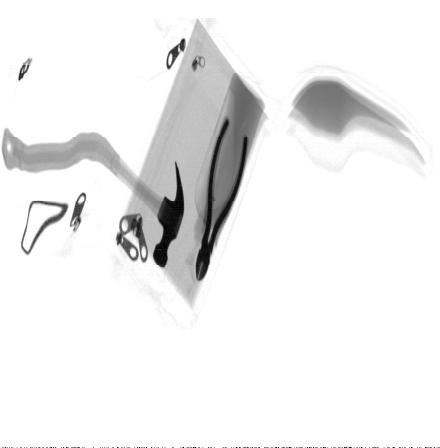Hammer: (1, 126, 186, 268)
Pliers: (195, 114, 249, 281)
